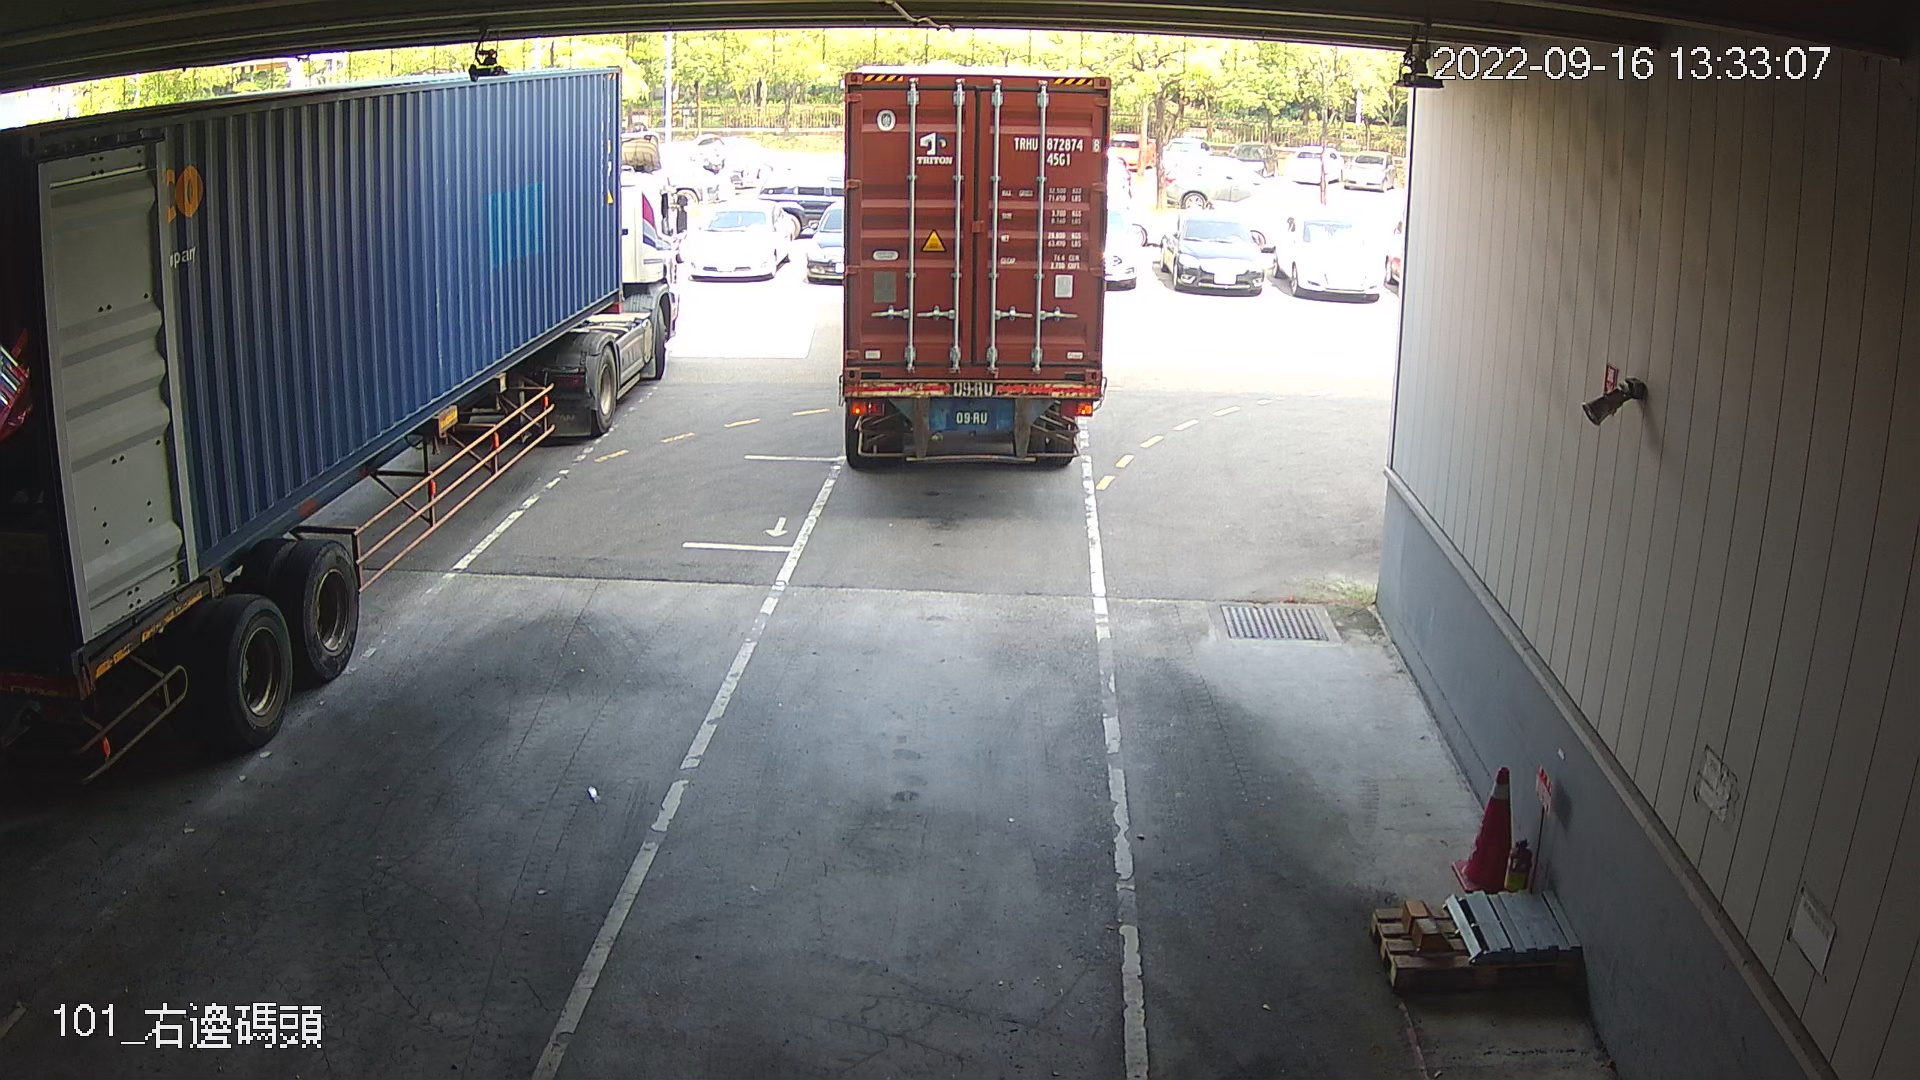container: (1004, 131, 1101, 173)
